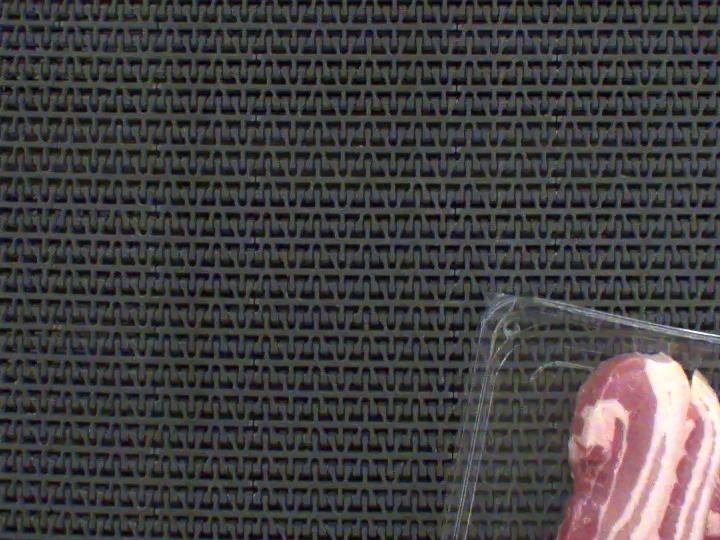packaging-error: (627, 329, 679, 363)
